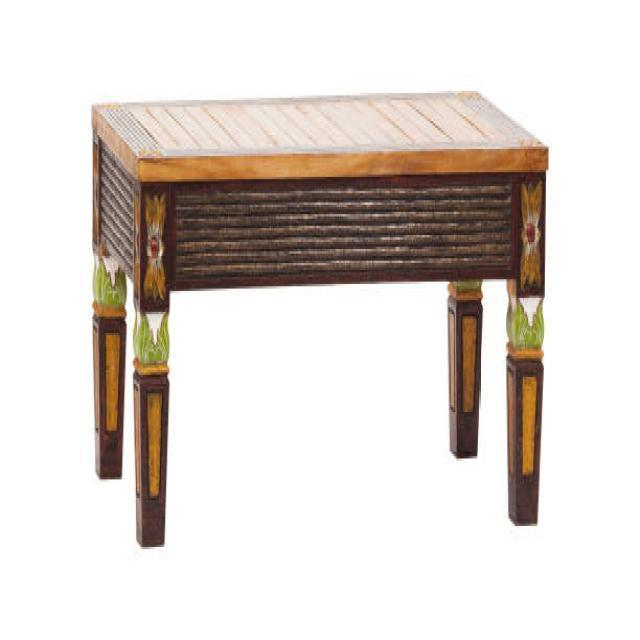table: (90, 86, 549, 547)
